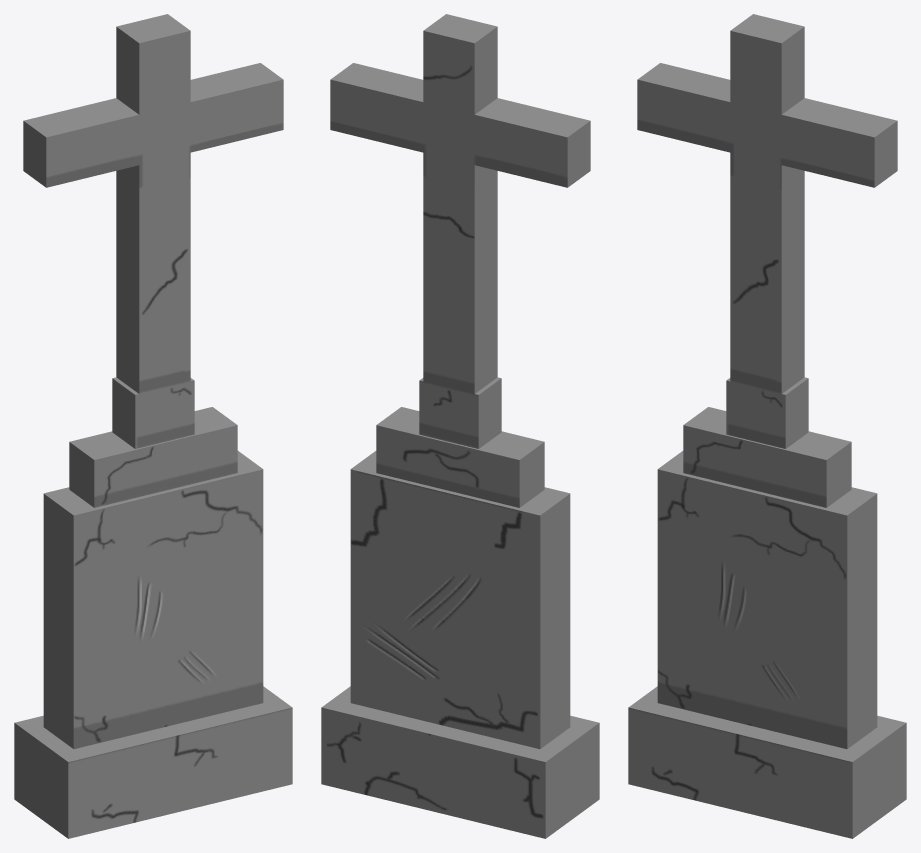
File: Cep_01.fbx
3 views of the same model, side by side, from view 1: azimuth 30°, elevation 25°; view 2: azimuth 150°, elevation 25°; view 3: azimuth 330°, elevation 25° (orthographic).
Visible parts, largest first — view 1: pCube1; view 2: pCube1; view 3: pCube1.
Boxes of the visible parts, left/top/right/bottom form: pCube1: left=14, top=14, right=292, bottom=838; pCube1: left=321, top=14, right=599, bottom=838; pCube1: left=628, top=14, right=906, bottom=838.
Bounding box in the file's own units: 4.72 × 14.52 × 1.86.
1 material, 1 textured.
